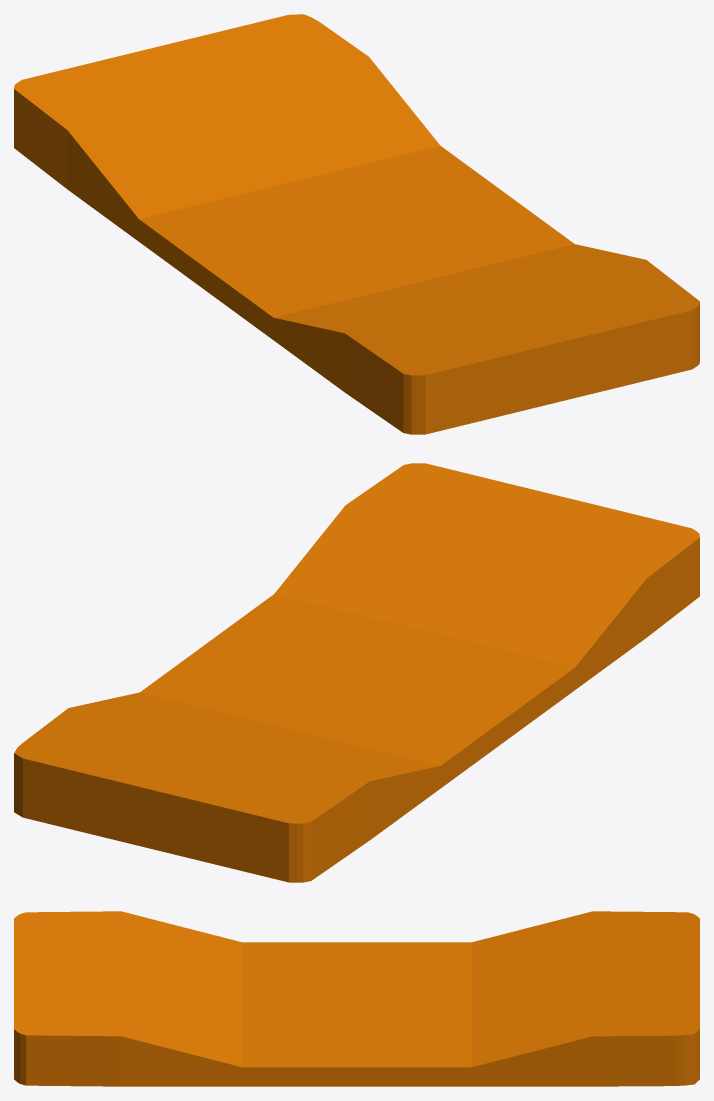
File: simpleButton.glb
The picture shows the model from 3 angles, top to bottom: view 1: azimuth 30°, elevation 25°; view 2: azimuth 150°, elevation 25°; view 3: azimuth 270°, elevation 25°; orthographic projection. The views are drawn at different scales.
Visible parts, largest first — view 1: Switch; view 2: Switch; view 3: Switch.
Part boxes in pixels (<box>): Switch: <box>14,14,699,434</box>; Switch: <box>14,463,699,882</box>; Switch: <box>14,911,699,1086</box>.
Size of the model in its own units: 0.8598 by 0.1615 by 1.99.
